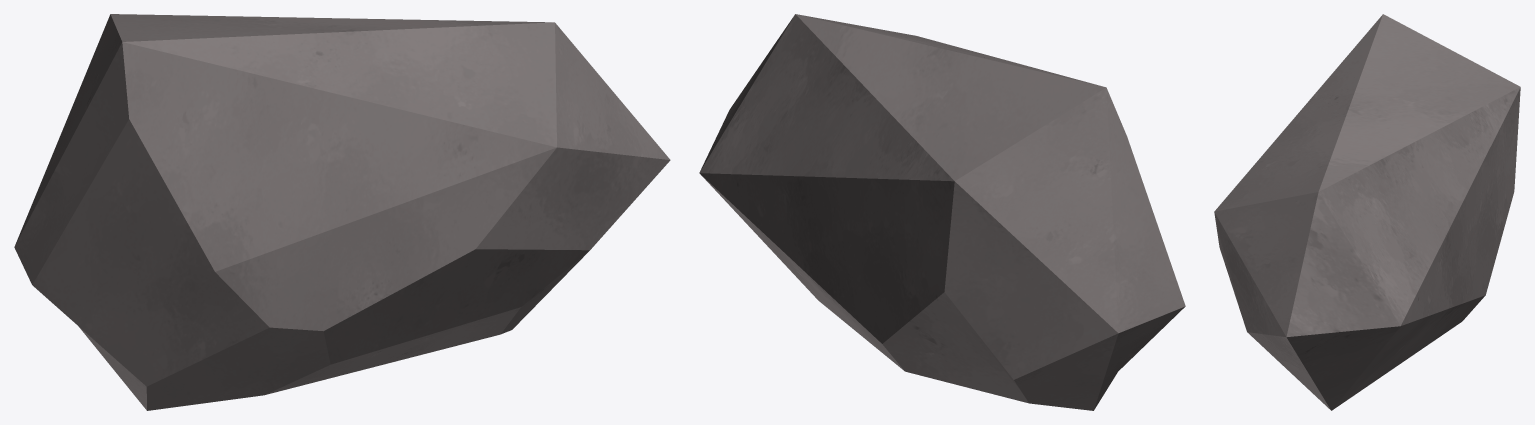
Rendered from Stone_ver6.fbx.
3 renders of one model, left to right at view 1: azimuth 30°, elevation 25°; view 2: azimuth 150°, elevation 25°; view 3: azimuth 270°, elevation 25°, orthographic. The views are drawn at different scales.
Visible parts, largest first — view 1: Icosphere.007; view 2: Icosphere.007; view 3: Icosphere.007.
Boxes of the visible parts, <box> form: Icosphere.007: <box>14,14,670,410</box>; Icosphere.007: <box>699,14,1185,410</box>; Icosphere.007: <box>1214,14,1520,410</box>.
Bounding box in the file's own units: 99.18 × 61.08 × 60.48.
